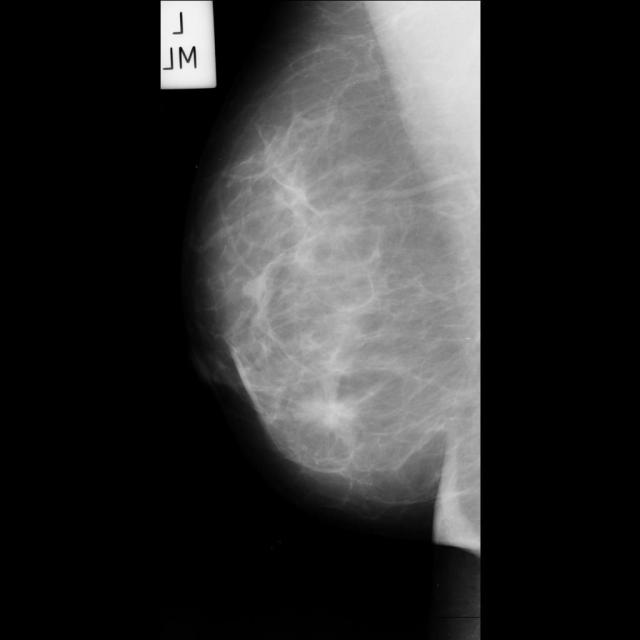tumour: (293, 388, 361, 433)
